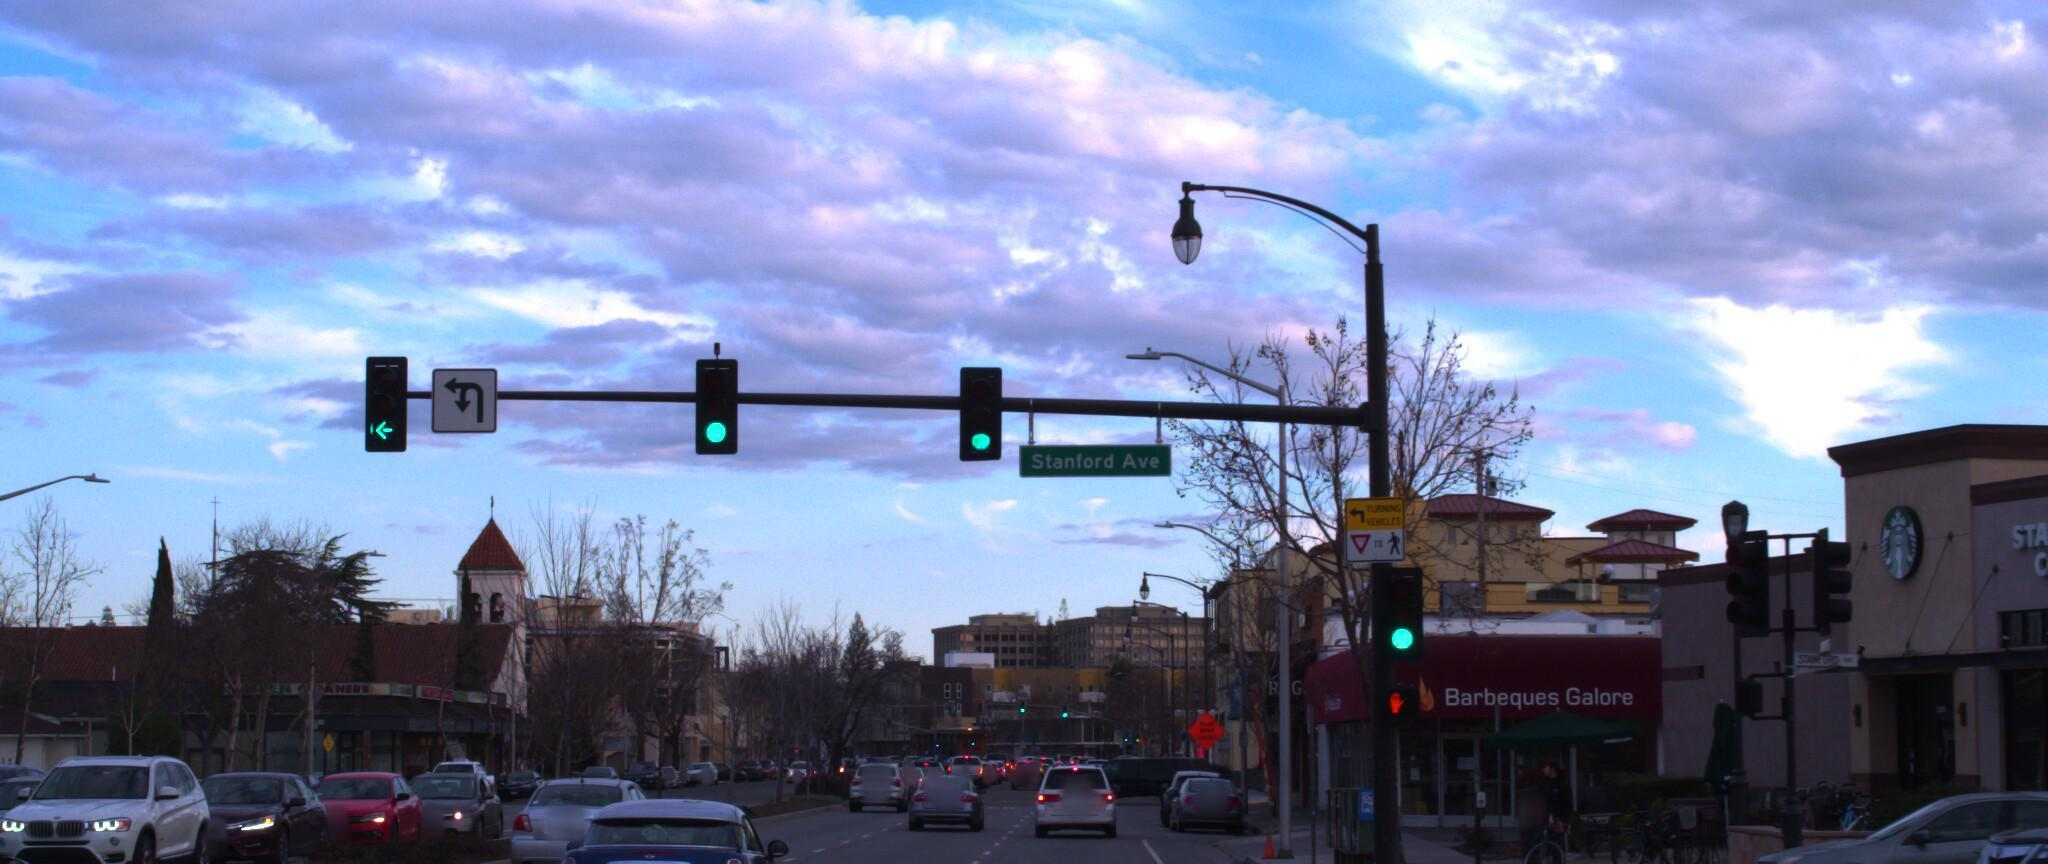bicycle: (1496, 733, 1567, 864), (1584, 779, 1704, 851)
car: (0, 720, 236, 864), (1721, 767, 2048, 864), (541, 770, 810, 864), (146, 745, 345, 850), (495, 750, 673, 864), (1906, 733, 2048, 864), (280, 741, 443, 835), (0, 747, 140, 852), (379, 744, 516, 827), (0, 773, 94, 864), (1031, 749, 1121, 826), (899, 741, 989, 810), (1159, 753, 1240, 813)
